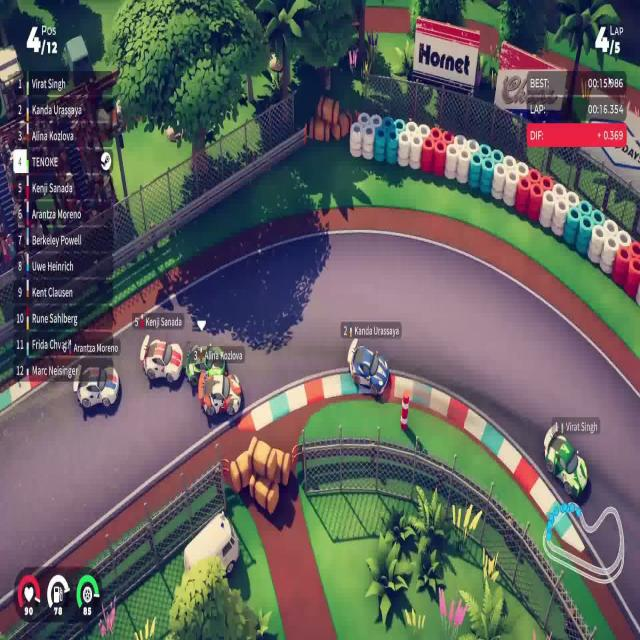car: (542, 422, 588, 499), (347, 338, 390, 399), (197, 367, 242, 418), (73, 364, 120, 412), (140, 334, 183, 385), (186, 340, 227, 386)
